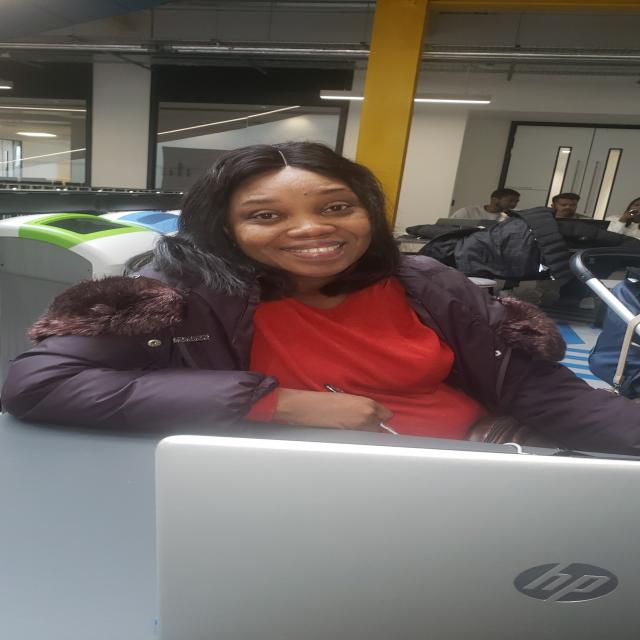happy: (203, 149, 384, 284)
